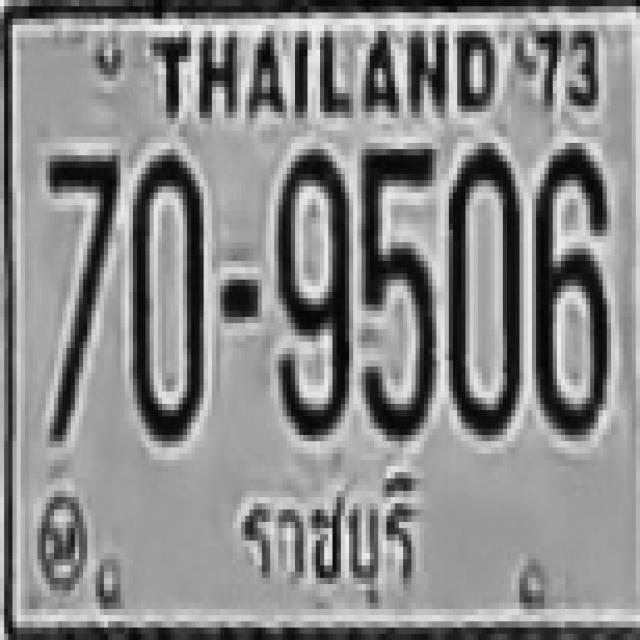0: (444, 140, 520, 432), (129, 149, 199, 435)
5: (358, 143, 432, 435)
6: (532, 143, 607, 429)
7: (46, 149, 116, 435), (46, 149, 116, 354)
9: (274, 143, 345, 435)
Ratchaburi: (231, 472, 439, 623)
